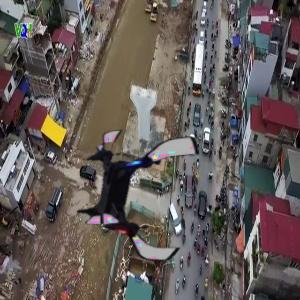drone: (69, 126, 212, 269)
